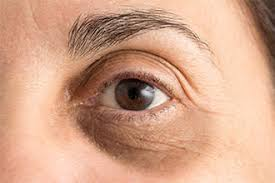PUFFY_EYES: (69, 54, 219, 157)
